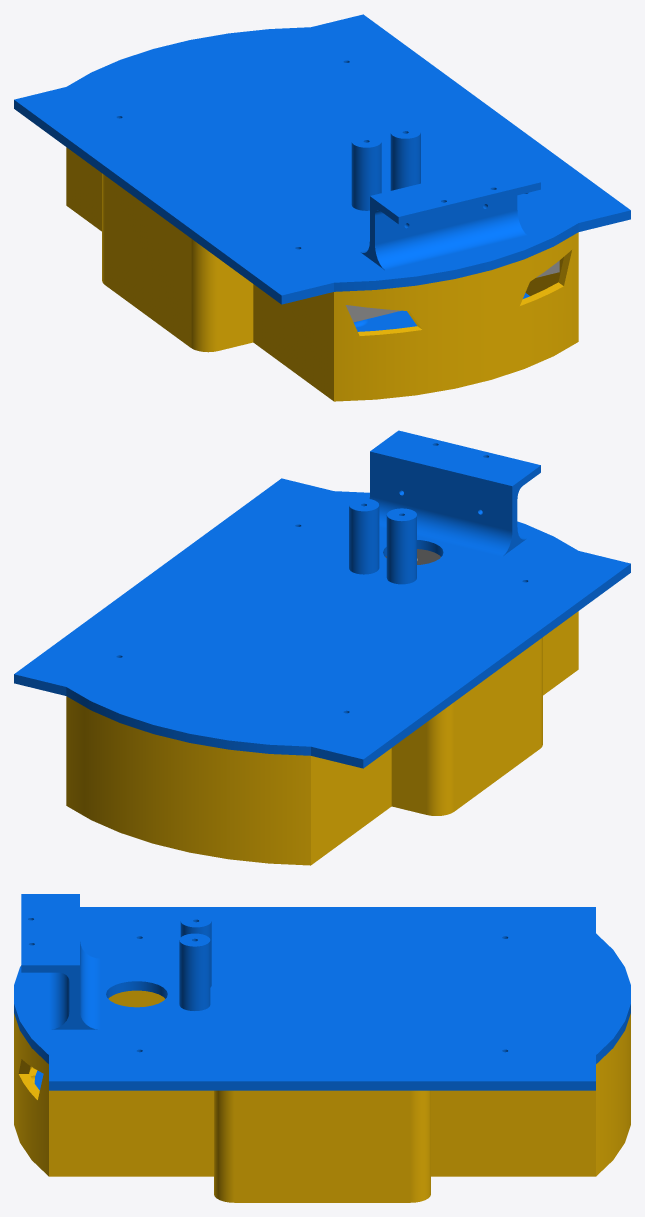
The model's file is chasis.obj.
The picture shows the model from 3 angles, top to bottom: view 1: azimuth 30°, elevation 25°; view 2: azimuth 150°, elevation 25°; view 3: azimuth 270°, elevation 25°; orthographic projection. The views are drawn at different scales.
Visible parts, largest first — view 1: chasis; view 2: chasis; view 3: chasis.
Part boxes in pixels (box(x1,y1,x2,y2)): chasis: box(14, 14, 630, 401); chasis: box(14, 430, 630, 865); chasis: box(14, 894, 630, 1202).
Bounding box in the file's own units: 20 × 9.96 × 29.93.
